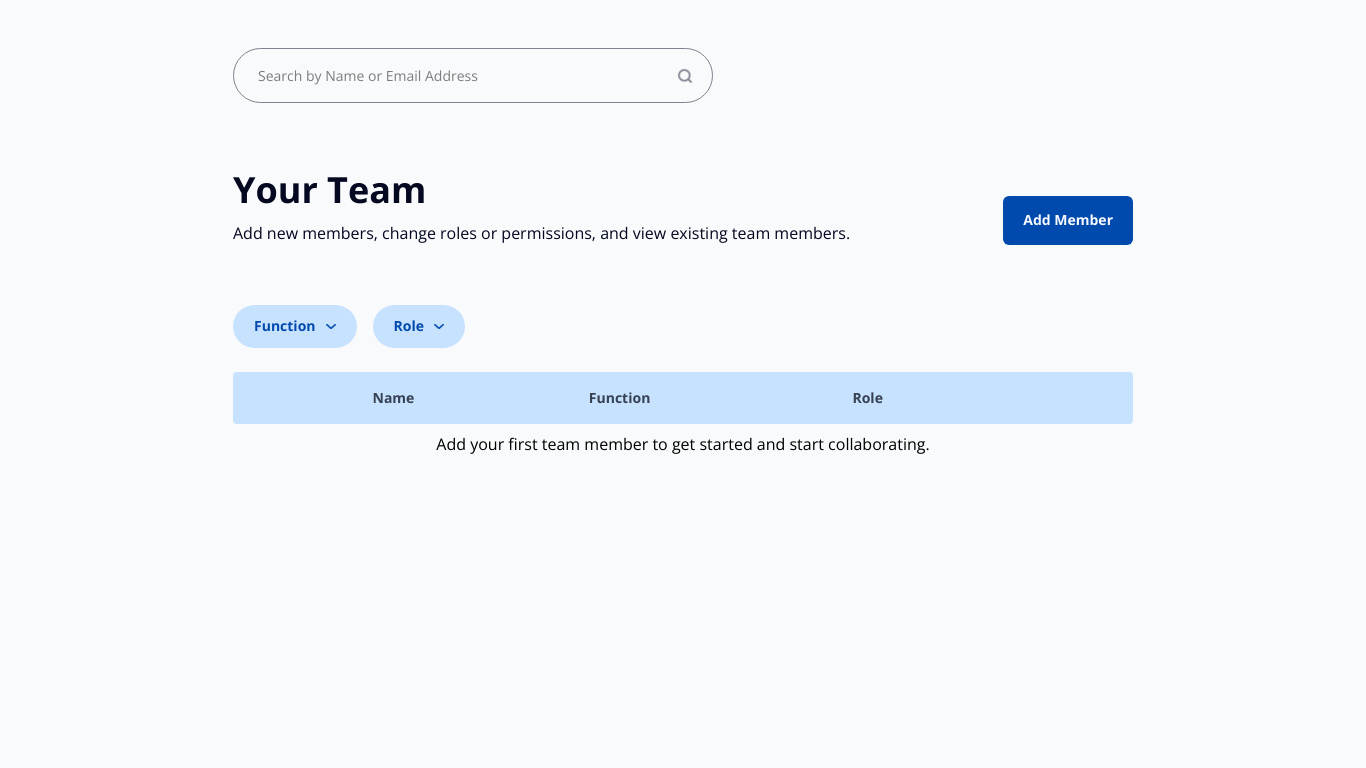
Team Management App › invalid email shows validation error
The width and height of the screenshot is (1366, 768).
Click the button "Add Member" at (1068, 221), box [1003,196,1133,245]
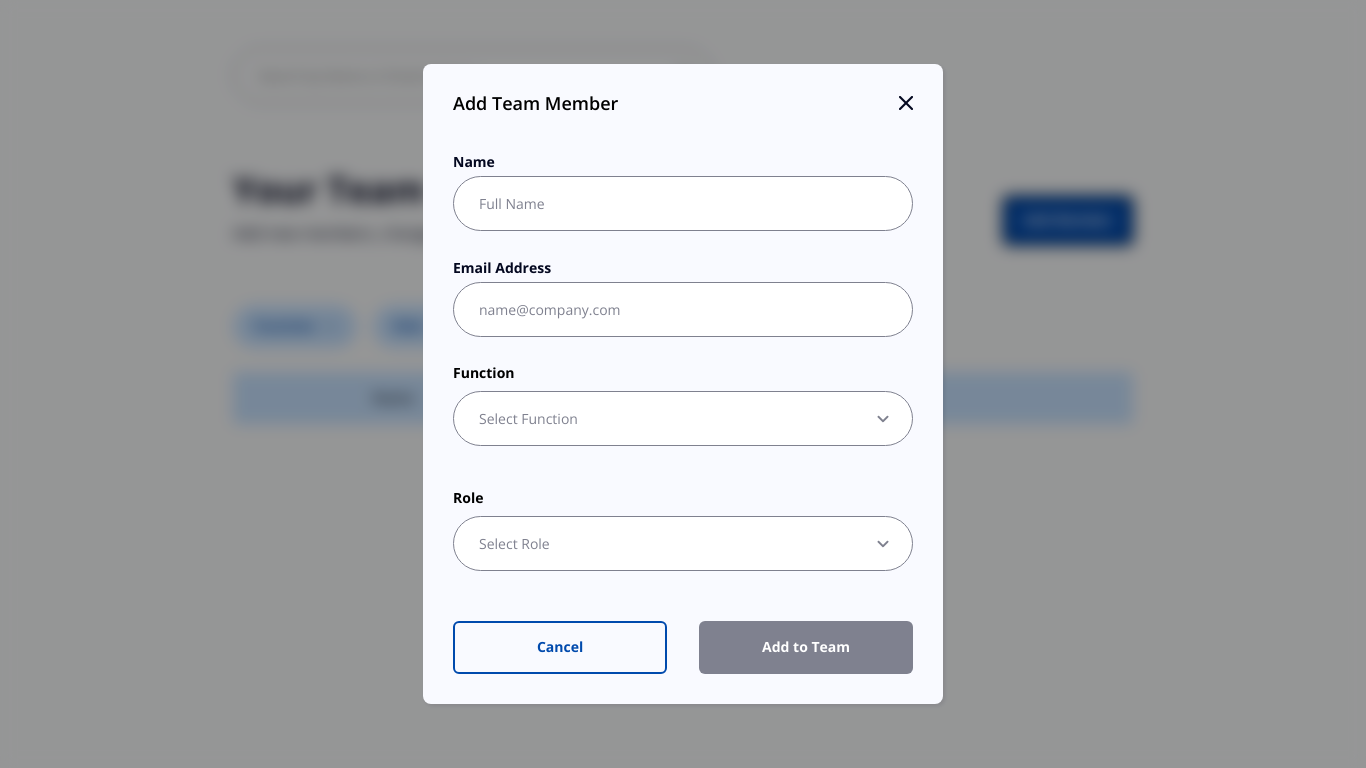
Type "invalid-email" into the field with placeholder "name@company.com" at (683, 310), box [453,282,913,337]
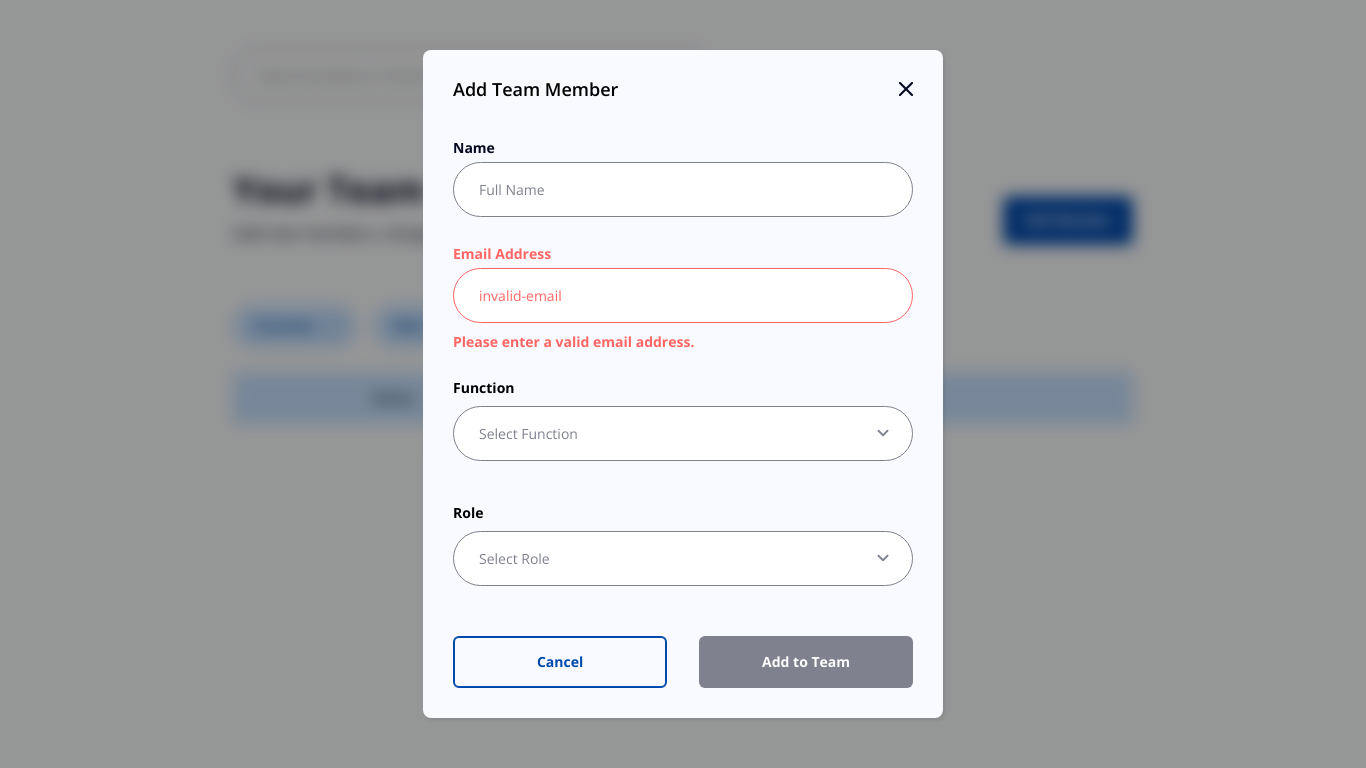
Now the text "Please enter a valid email address." is shown, box [453,332,694,351]
